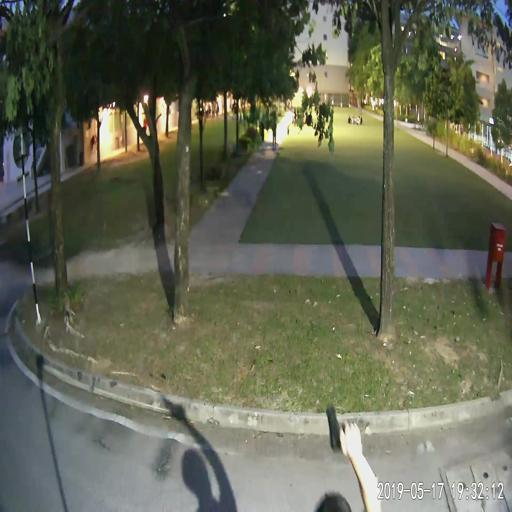pistol: (325, 404, 361, 452)
